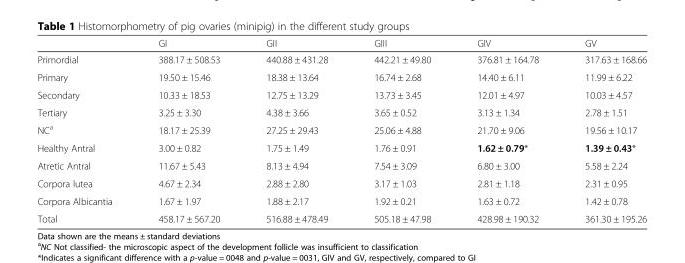table: (36, 36, 646, 224)
table column: (134, 36, 242, 224), (242, 36, 350, 224), (453, 36, 561, 224), (350, 36, 453, 224), (36, 36, 134, 224), (561, 36, 646, 224)
table column header: (36, 36, 646, 50)
table row: (36, 50, 646, 68), (36, 85, 646, 103), (36, 120, 646, 138), (36, 138, 646, 156), (36, 156, 646, 174), (36, 191, 646, 209), (36, 68, 646, 85), (36, 103, 646, 120), (36, 174, 646, 191), (36, 209, 646, 224), (36, 36, 646, 50)
